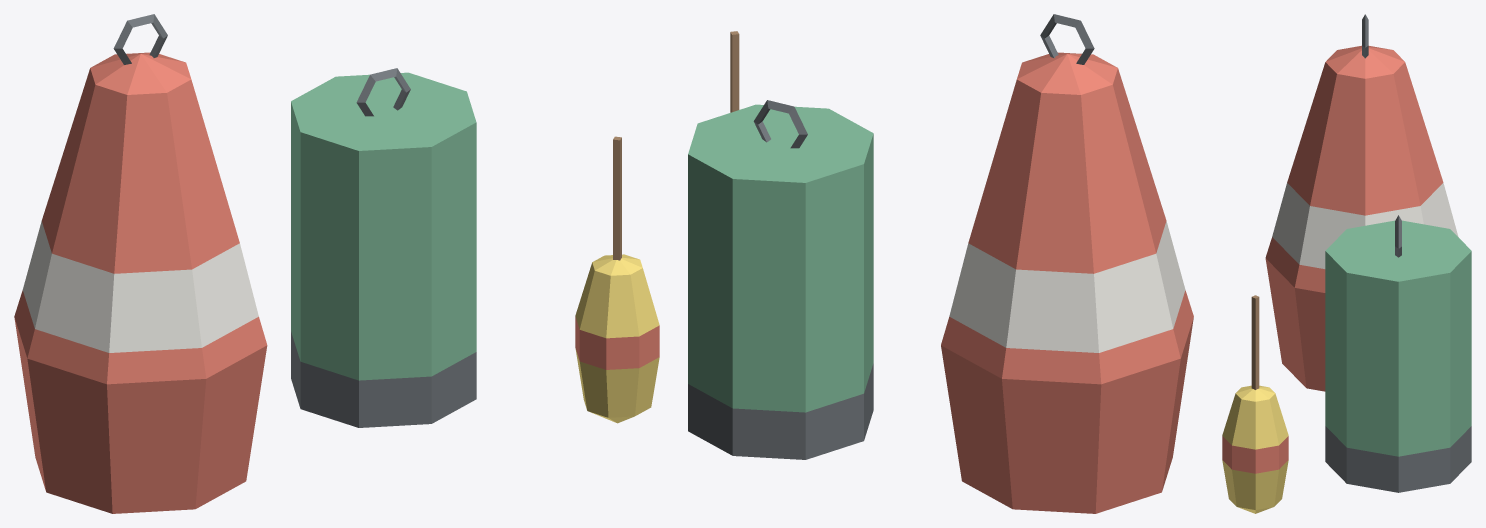
The model's file is Buoy_Set.glb.
3 views of the same model, side by side, from view 1: azimuth 30°, elevation 25°; view 2: azimuth 150°, elevation 25°; view 3: azimuth 270°, elevation 25° (orthographic). The views are drawn at different scales.
Parts seen in each view (by area): view 1: Buoy_Set; view 2: Buoy_Set; view 3: Buoy_Set.
Boxes of the visible parts, <box> form: Buoy_Set: <box>14,14,659,513</box>; Buoy_Set: <box>688,14,1193,513</box>; Buoy_Set: <box>1222,14,1471,513</box>.
Bounding box in the file's own units: 1.47 × 1.14 × 0.75.
